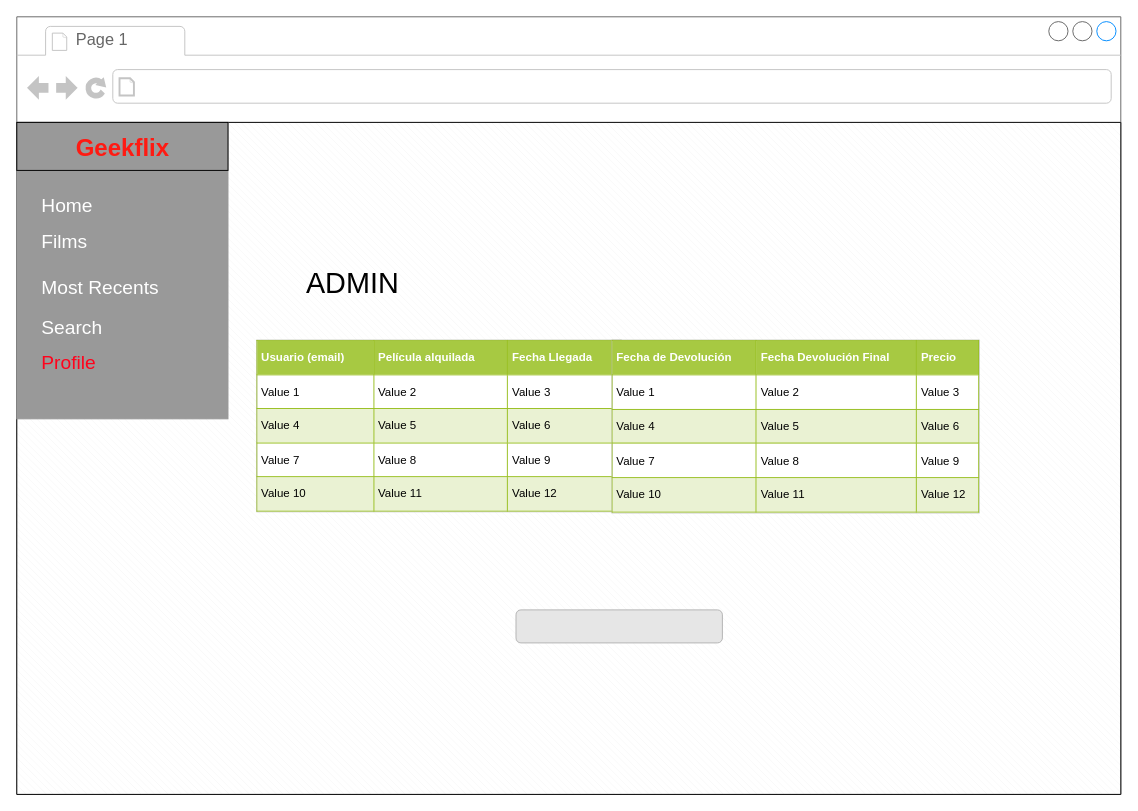
The diagram is 1138 pixels wide and 811 high, and some of its shapes have lost their labels. Here are the shapes that lost their labels. From the top down, the box of each, then its label:
(141, 73, 382, 99): https://www.draw.io
(515, 609, 722, 643): Log out
